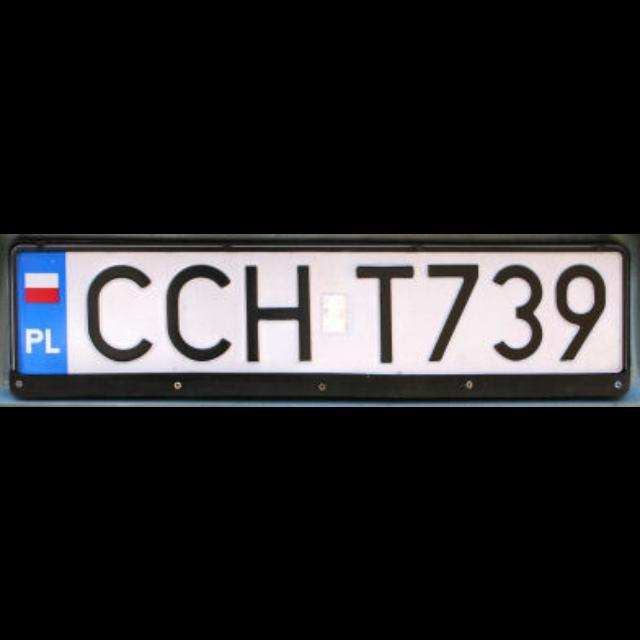license-plates: (10, 245, 629, 398)
